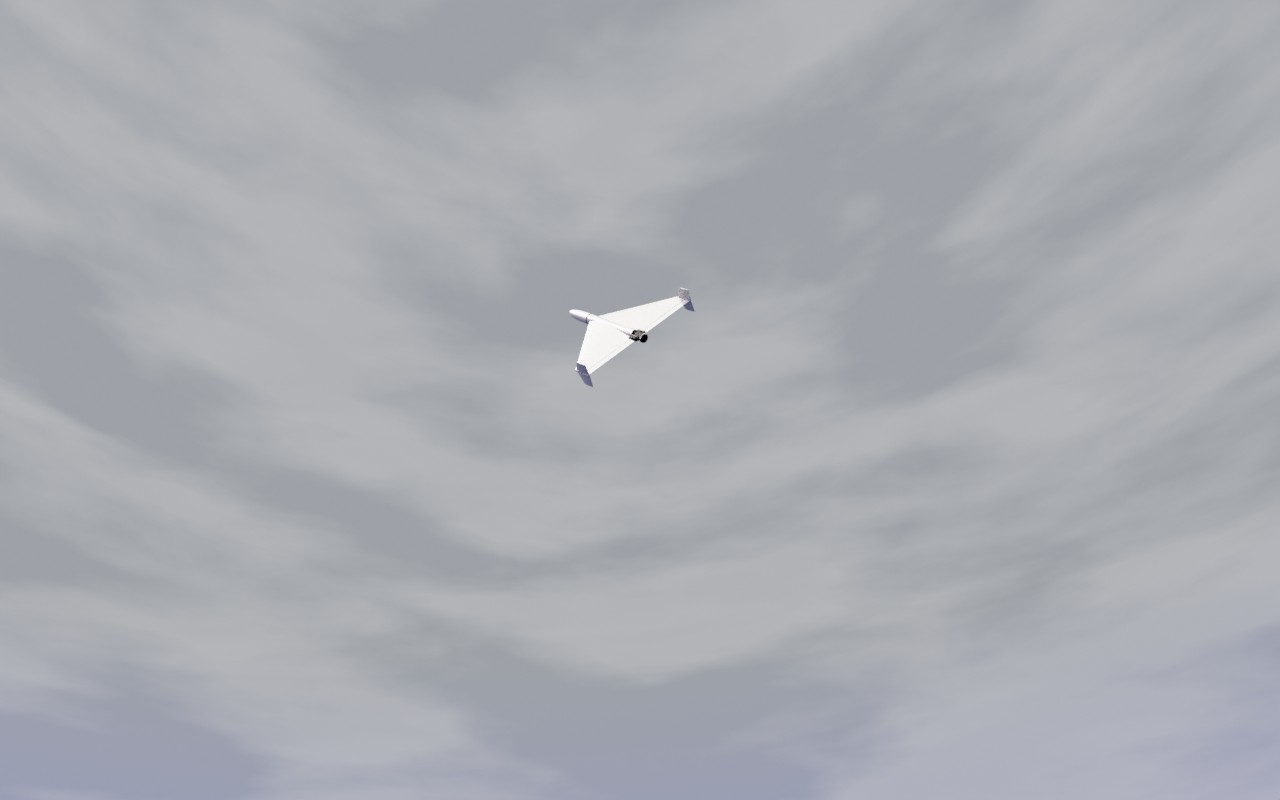shahed: (569, 288, 697, 389)
